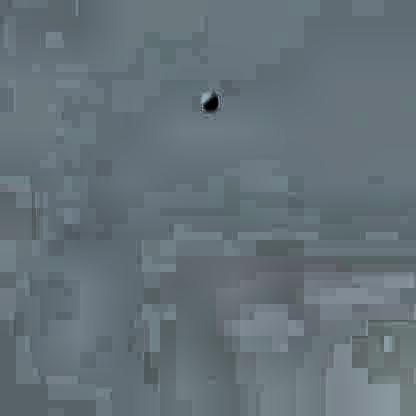golfball: (198, 86, 216, 108)
